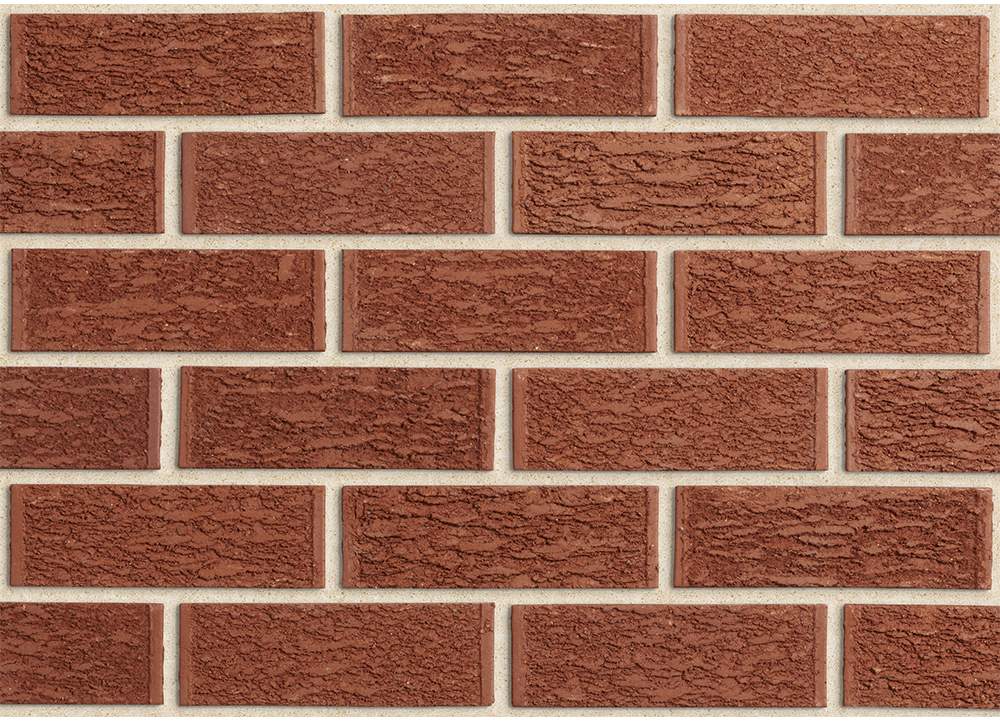redbrick: (82, 423, 1000, 677), (235, 70, 685, 331), (753, 48, 1000, 316), (1, 91, 178, 323)
